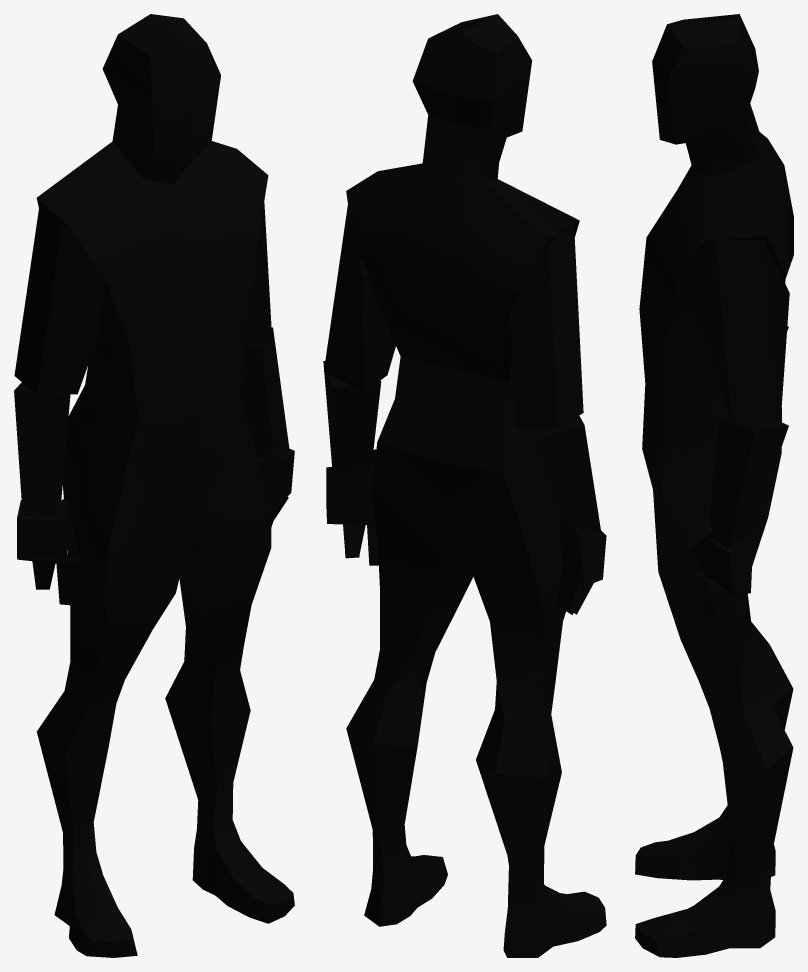
File: human3.obj
3 renders of one model, left to right at view 1: azimuth 30°, elevation 25°; view 2: azimuth 150°, elevation 25°; view 3: azimuth 270°, elevation 25°, orthographic.
Visible parts, largest first — view 1: HumanScale; view 2: HumanScale; view 3: HumanScale.
Boxes of the visible parts, box(x1,y1,x2,y2) form: HumanScale: box(14, 14, 294, 957); HumanScale: box(323, 14, 606, 957); HumanScale: box(635, 14, 793, 957).
Size of the model in its own units: 65.72 by 200 by 32.48.
1 material, 1 textured.
